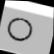no answer: (3, 13, 34, 46)
